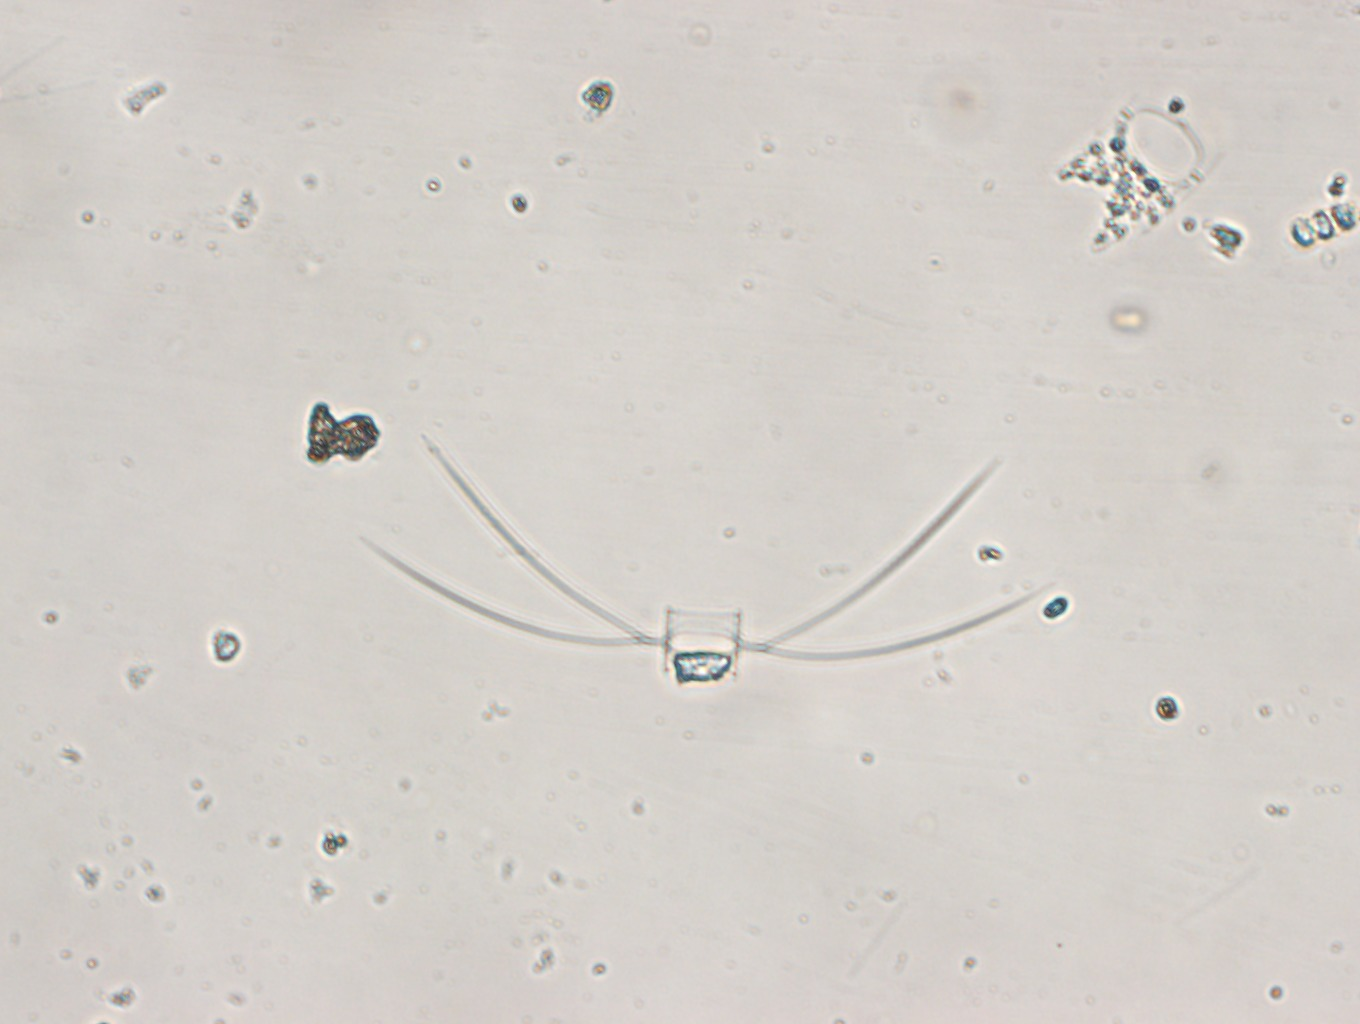chaetoceros: (385, 442, 1023, 721)
